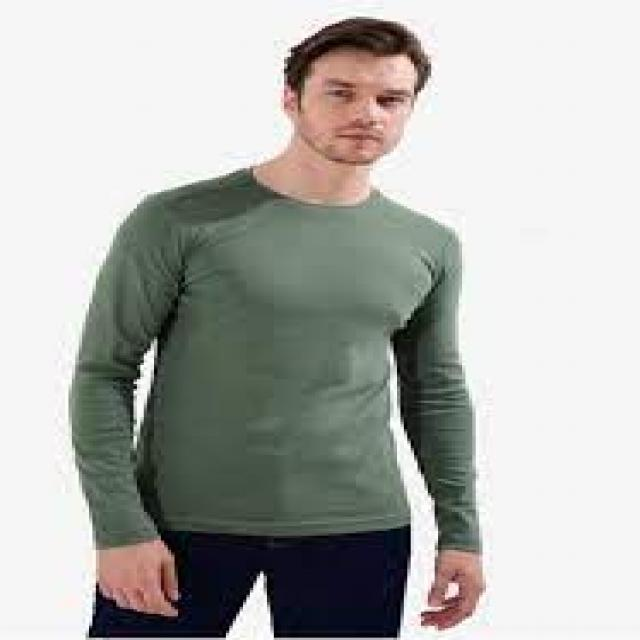plain: (21, 169, 540, 573)
